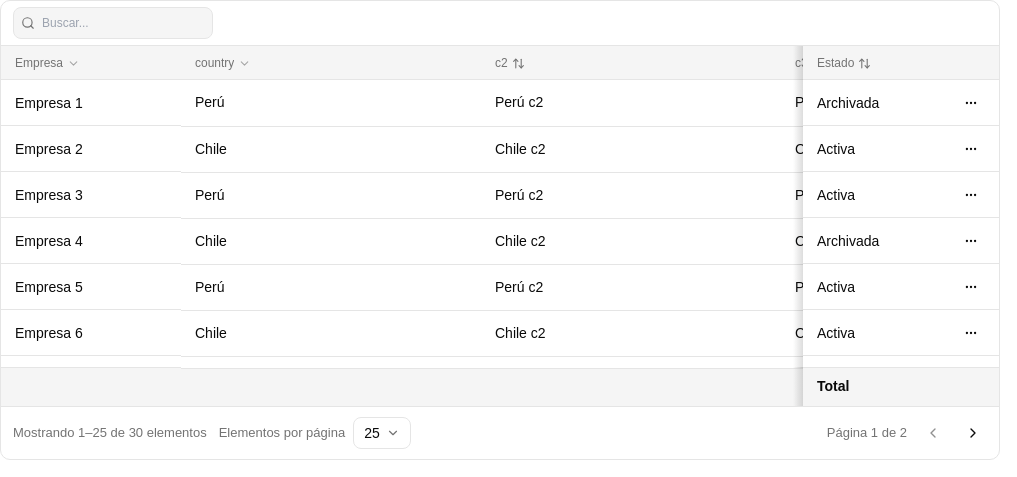
Test: the row menu opens over the pinned columns
The width and height of the screenshot is (1017, 477).
Step 1. Click the button named "Opciones" in the row of "Empresa 1" → [971, 103], box [957, 89, 985, 117]
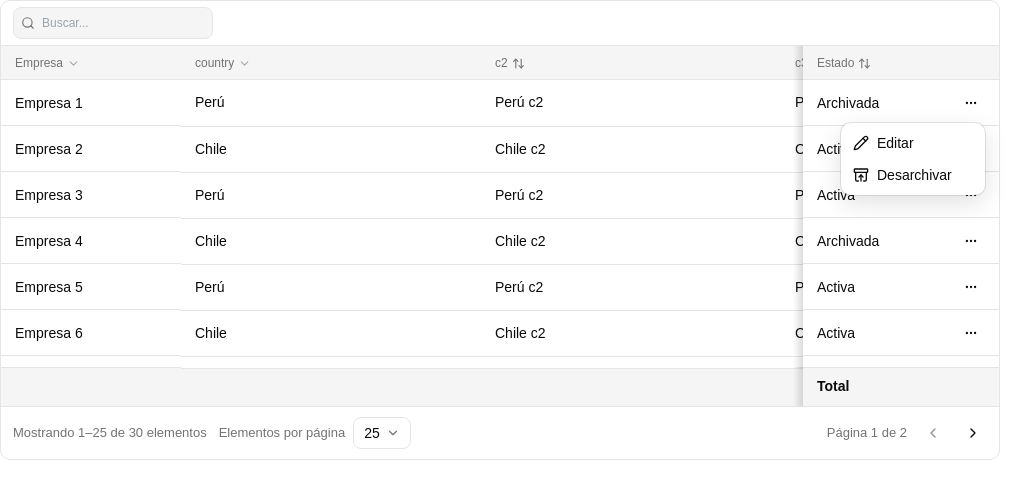
Check: the menu is shown, box [841, 123, 985, 195]
